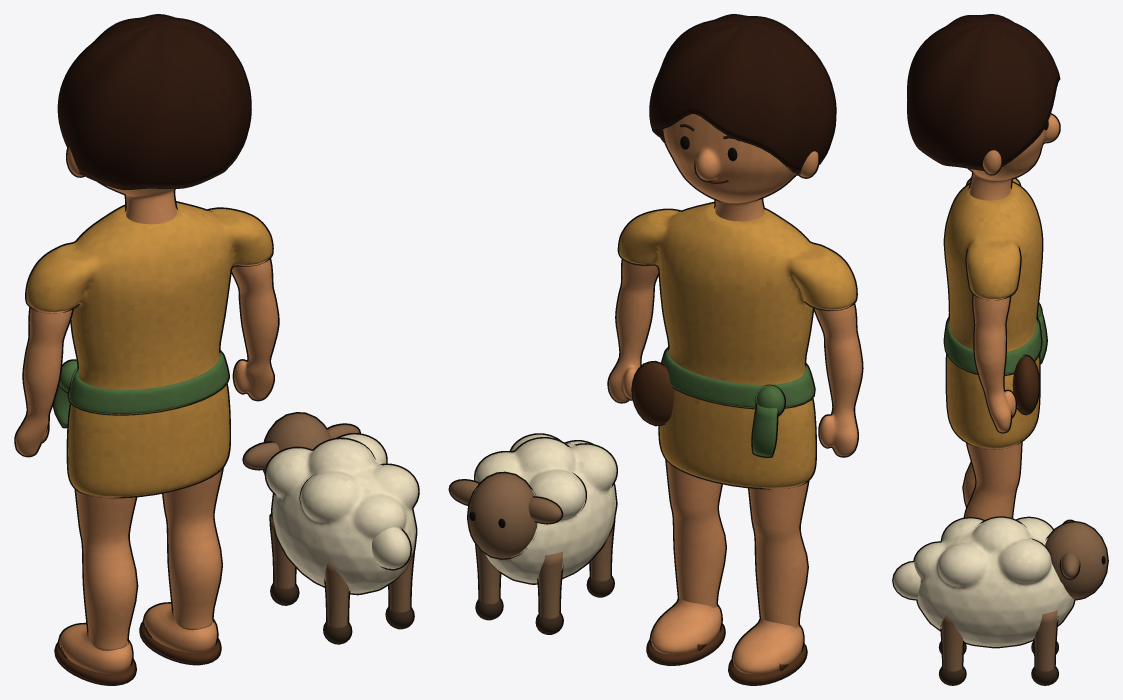
The model's file is david_mentor_v12.glb.
3 renders of one model, left to right at view 1: azimuth 30°, elevation 25°; view 2: azimuth 150°, elevation 25°; view 3: azimuth 270°, elevation 25°, orthographic. The views are drawn at different scales.
Visible parts, largest first — view 1: David_Mentor, David_Mentor_Outline; view 2: David_Mentor, David_Mentor_Outline; view 3: David_Mentor, David_Mentor_Outline.
Boxes of the visible parts, left/top/right/bottom form: David_Mentor: left=15, top=15, right=418, bottom=684; David_Mentor_Outline: left=14, top=14, right=419, bottom=685; David_Mentor: left=450, top=15, right=861, bottom=684; David_Mentor_Outline: left=448, top=14, right=863, bottom=685; David_Mentor: left=893, top=15, right=1107, bottom=684; David_Mentor_Outline: left=892, top=14, right=1108, bottom=685.
Size of the model in its own units: 0.7627 by 1.23 by 0.4272.
Materials: 12 (12 with a texture image).
